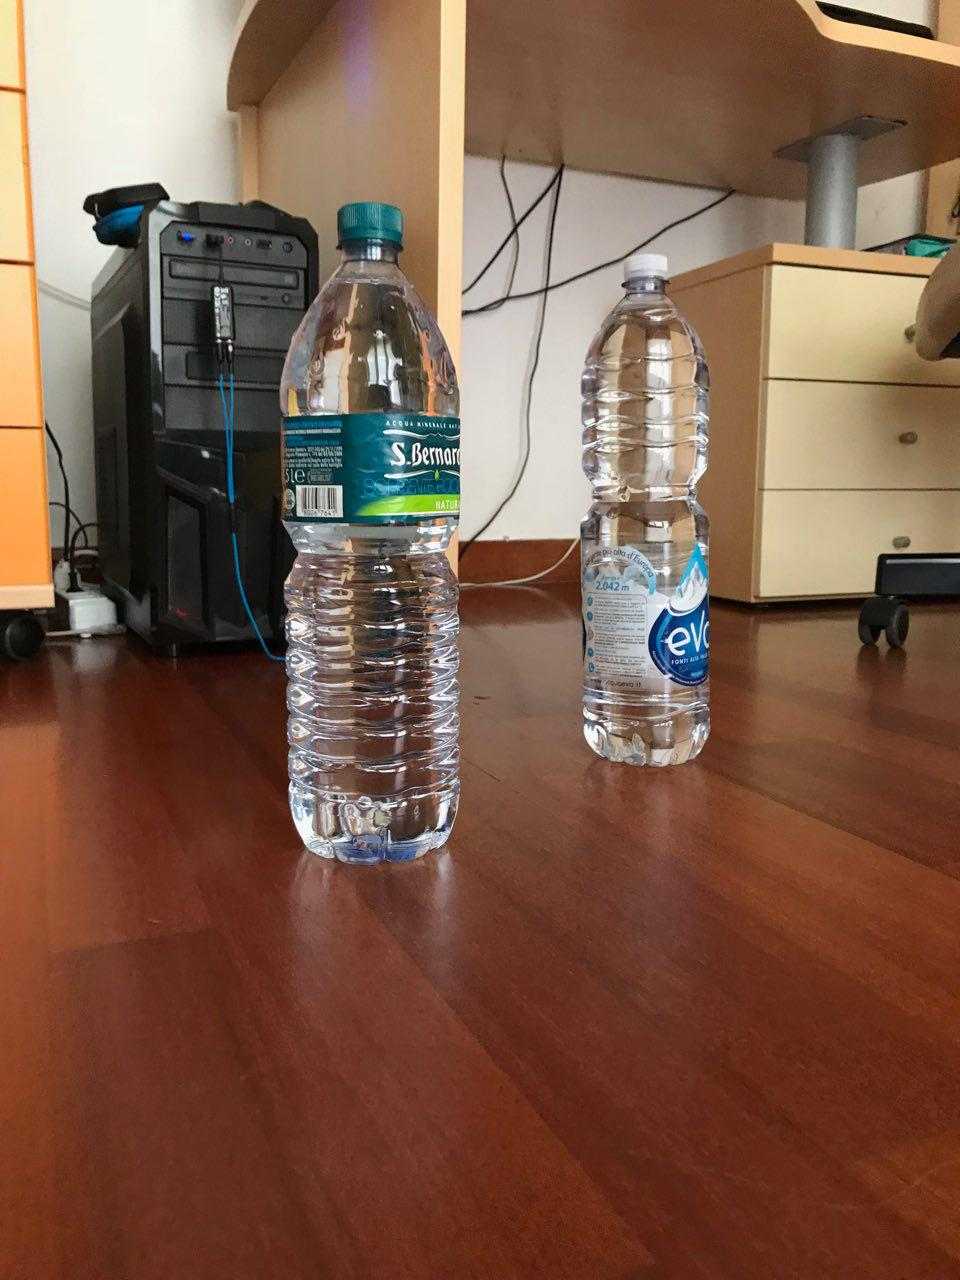san_bernardo: (277, 201, 463, 864)
